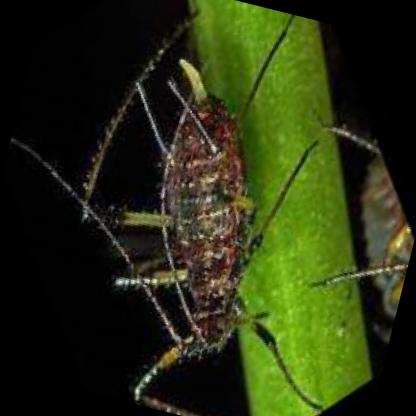uroleucon compositae: (104, 66, 276, 392)
